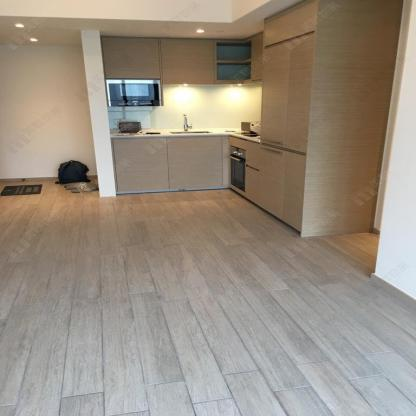Cupboard: (258, 0, 403, 237)
